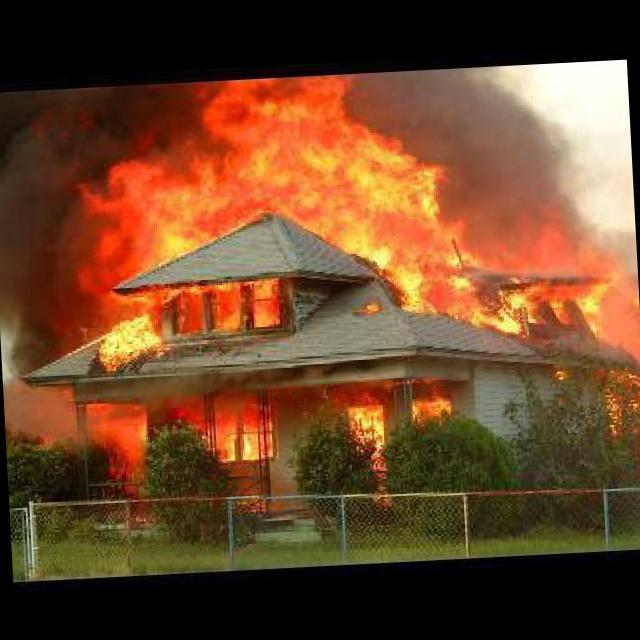Fire: (61, 57, 640, 502)
